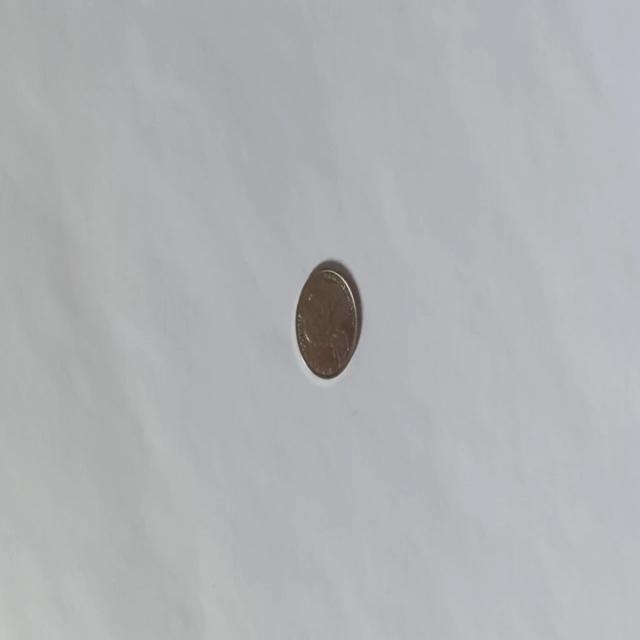seribu rupiah koin: (294, 258, 360, 380)
